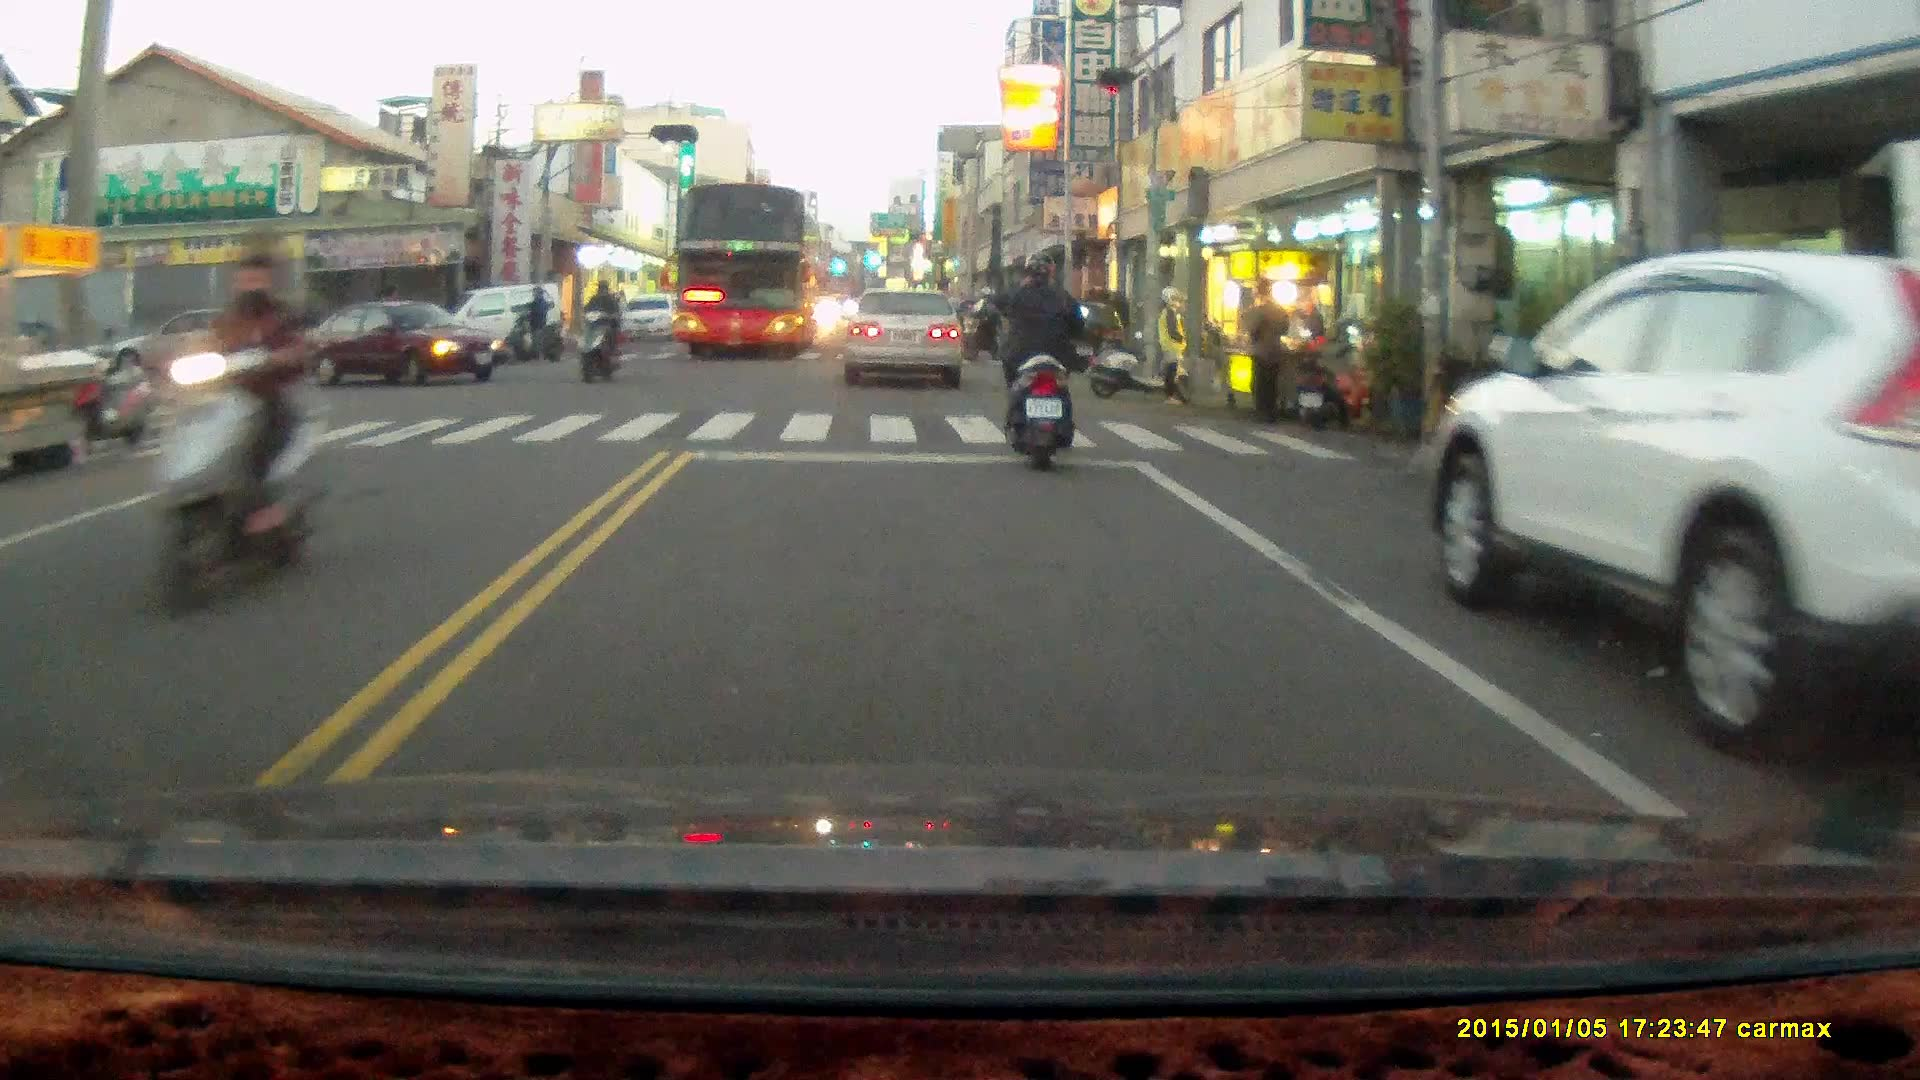pedestrian: (1244, 278, 1288, 427), (1151, 284, 1189, 409)
rider: (157, 223, 333, 618), (990, 250, 1091, 470), (574, 279, 622, 385), (501, 283, 564, 363), (959, 284, 1012, 364)
vehicle: (1423, 250, 1920, 761), (671, 188, 820, 369), (303, 300, 501, 388), (431, 280, 574, 374), (843, 287, 967, 393), (101, 311, 276, 382), (1033, 301, 1130, 376), (612, 290, 691, 344)
